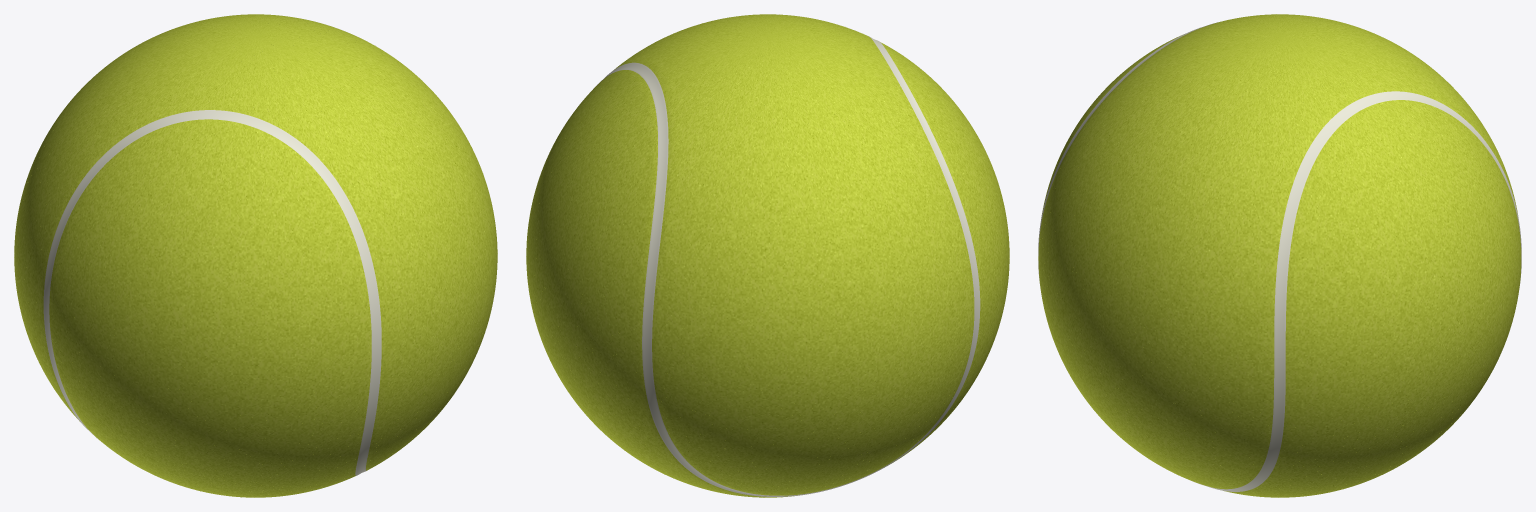
File: ball-v2.gltf
3 views of the same model, side by side, from view 1: azimuth 30°, elevation 25°; view 2: azimuth 150°, elevation 25°; view 3: azimuth 270°, elevation 25° (orthographic).
Parts seen in each view (by area): view 1: Two felt panels and recessed tennis seam; view 2: Two felt panels and recessed tennis seam; view 3: Two felt panels and recessed tennis seam.
Part boxes in pixels (x1,y1,x2,y2): Two felt panels and recessed tennis seam: (14,14,497,497); Two felt panels and recessed tennis seam: (526,14,1009,497); Two felt panels and recessed tennis seam: (1038,14,1521,497).
Size of the model in its own units: 0.067 by 0.067 by 0.0669.
Materials: 3 (1 with a texture image).
